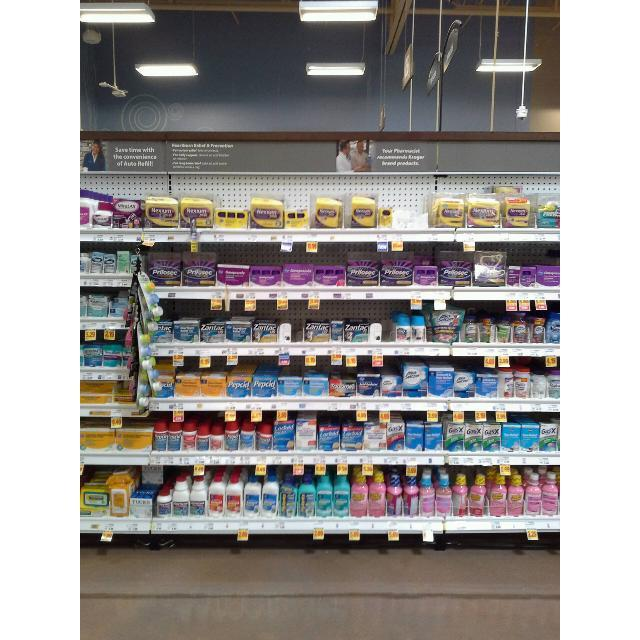empty: (292, 300, 304, 344), (382, 300, 392, 342)
